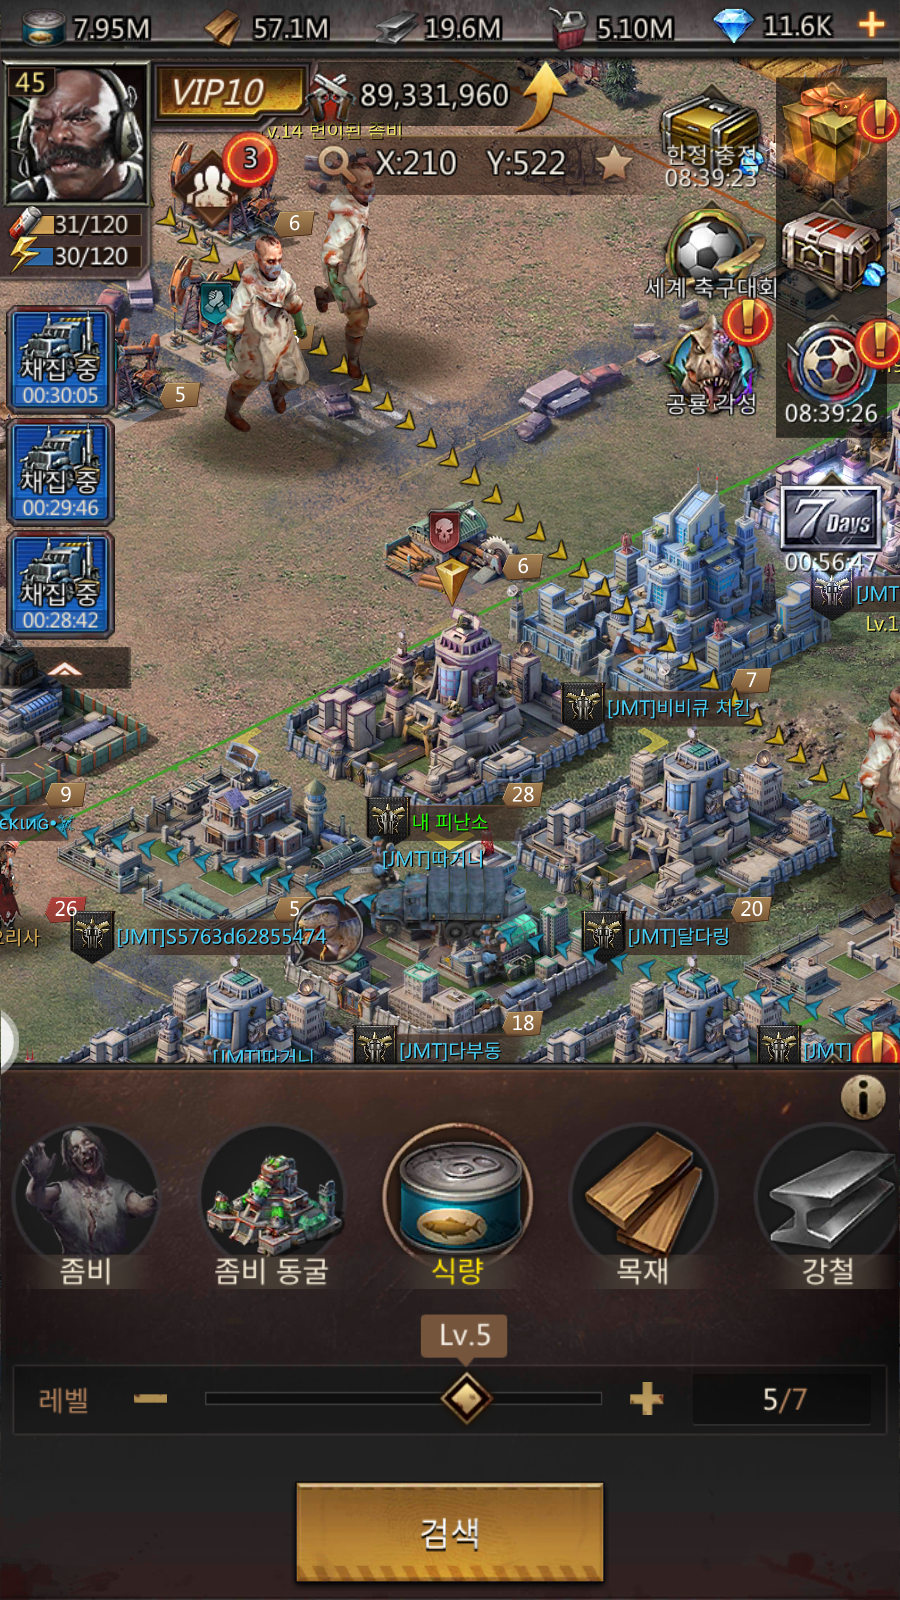rss_food_in_panel: (382, 1122, 536, 1291)
rss_lv5: (418, 1311, 507, 1358)
rss_minus_in_panel: (124, 1369, 176, 1420)
rss_plus_in_panel: (616, 1375, 675, 1425)
rss_search_in_panel: (298, 1484, 604, 1576)
rss_steel_in_panel: (751, 1120, 896, 1296)
rss_wood_in_panel: (573, 1118, 709, 1293)
troops_cnt_3: (160, 127, 285, 247)
